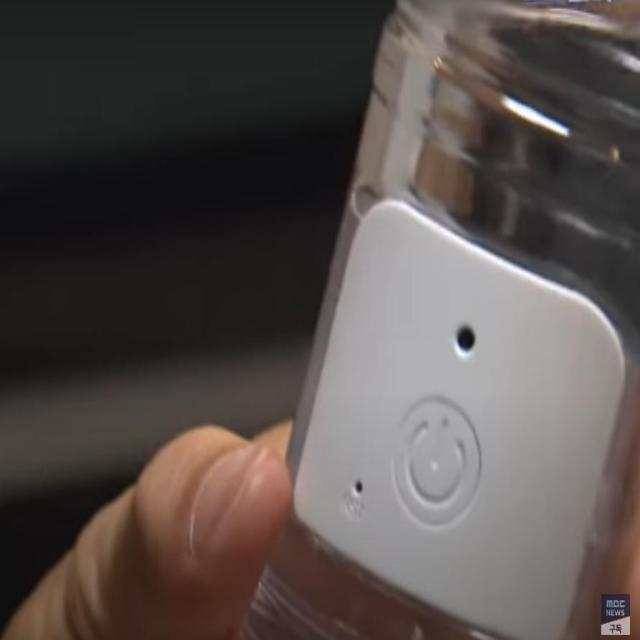hidden camera: (456, 321, 476, 354), (453, 320, 465, 323)
